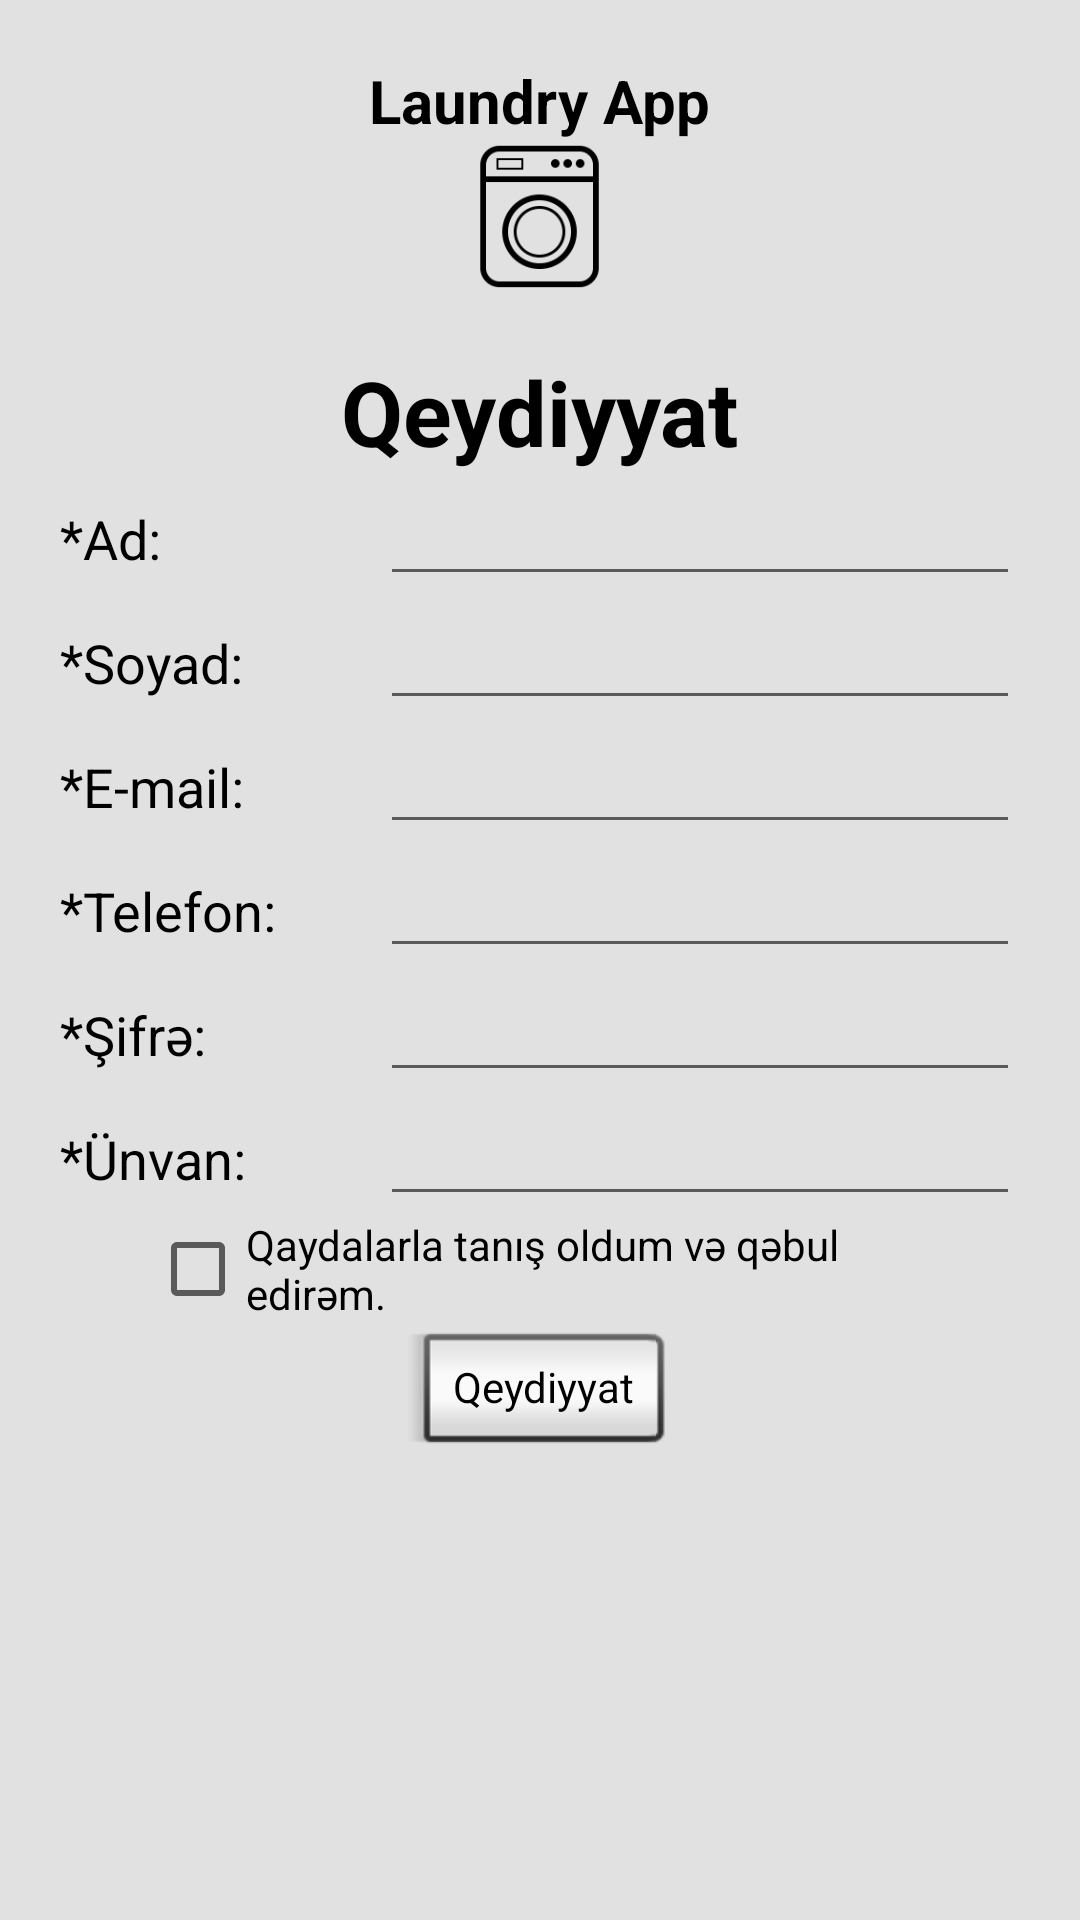

Locate icon controls on the screen. Image size 1080 x 1920, boxes as (x1, y1, x2, y2).
laundryicon: (480, 145, 599, 288)
